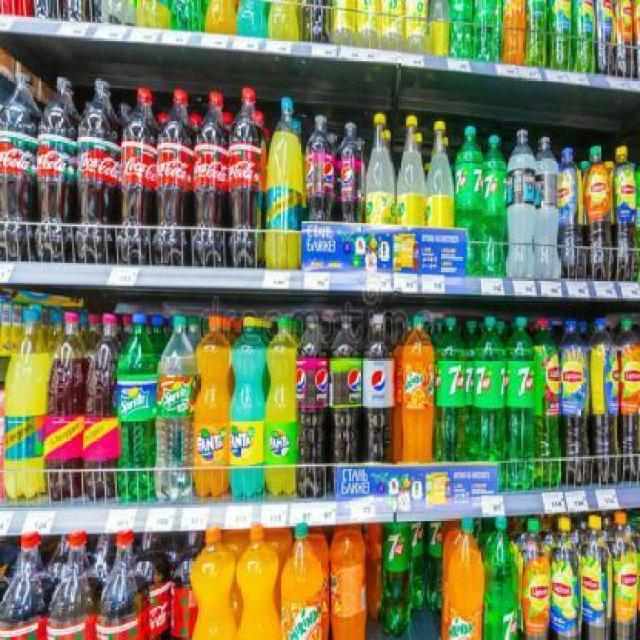Drinks: (78, 79, 120, 265), (37, 76, 79, 262), (117, 312, 157, 500), (156, 315, 196, 499), (0, 72, 37, 263), (229, 86, 266, 269), (120, 88, 158, 265), (196, 316, 232, 498), (231, 316, 267, 498), (193, 90, 230, 267), (157, 89, 194, 266), (295, 315, 329, 498), (506, 317, 537, 491), (267, 318, 296, 496), (328, 316, 362, 464), (362, 315, 396, 463), (454, 125, 485, 276), (473, 317, 505, 461), (483, 517, 520, 639), (433, 317, 464, 461), (379, 524, 411, 640), (305, 114, 337, 222), (485, 135, 508, 277), (336, 121, 367, 223)
